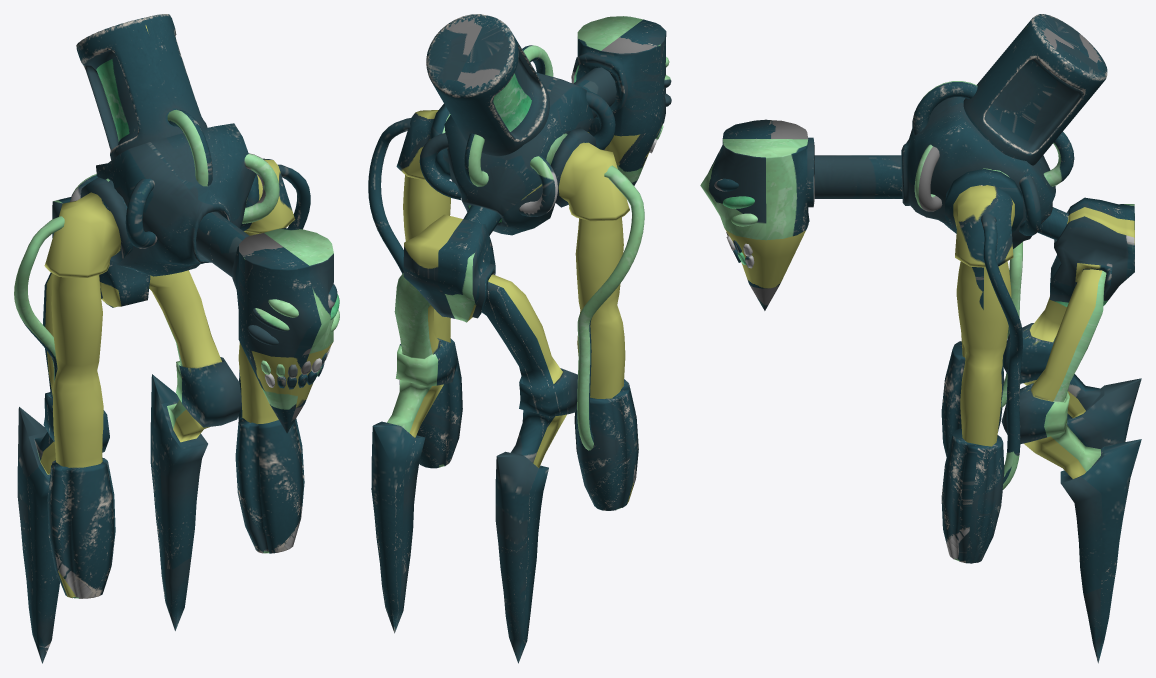
Rendered from shooter_Brian_7.fbx.
3 views of the same model, side by side, from view 1: azimuth 30°, elevation 25°; view 2: azimuth 150°, elevation 25°; view 3: azimuth 270°, elevation 25° (orthographic). The views are drawn at different scales.
Parts seen in each view (by area): view 1: PotentialSkullFace.000; view 2: PotentialSkullFace.000; view 3: PotentialSkullFace.000.
Part boxes in pixels (x1,y1,x2,y2): PotentialSkullFace.000: (14, 14, 339, 663); PotentialSkullFace.000: (368, 14, 671, 663); PotentialSkullFace.000: (700, 14, 1141, 663).
Size of the model in its own units: 120 by 258 by 168.
